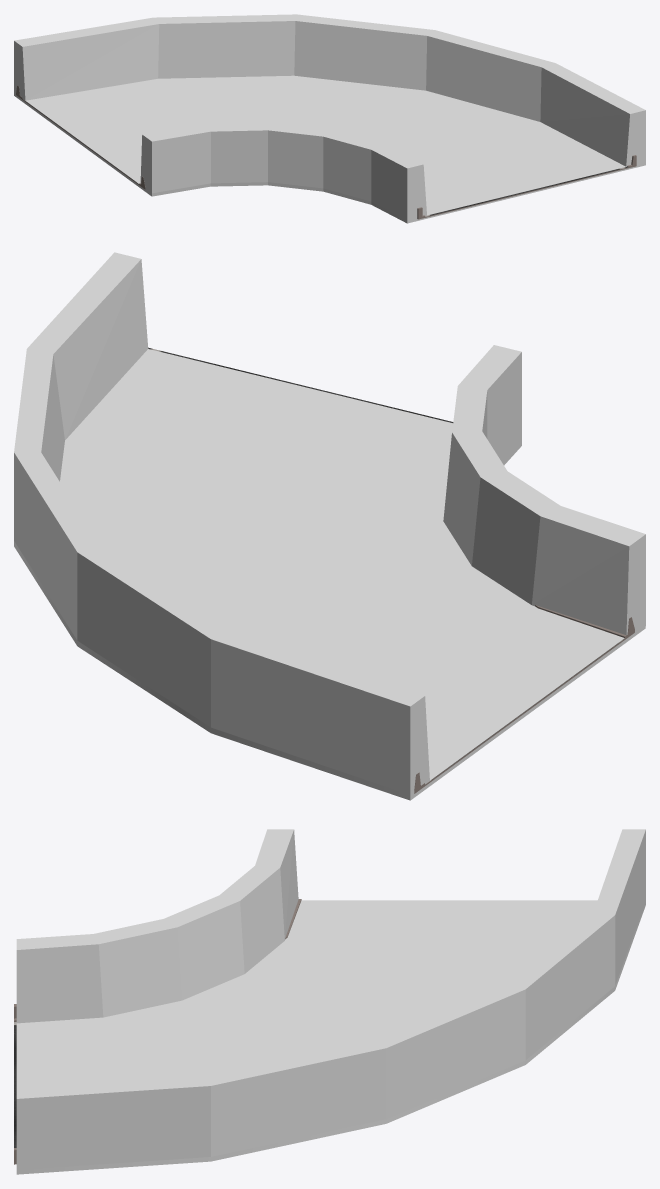
Rendered from CurveRoad.FBX.
3 views of the same model, one above another, from view 1: azimuth 30°, elevation 25°; view 2: azimuth 150°, elevation 25°; view 3: azimuth 270°, elevation 25° (orthographic). The views are drawn at different scales.
Parts seen in each view (by area): view 1: Cylinder002, Cylinder001; view 2: Cylinder002, Cylinder001; view 3: Cylinder002, Cylinder001.
Part boxes in pixels (x1=…): Cylinder002: x1=14, y1=14, x2=645, y2=223; Cylinder001: x1=16, y1=85, x2=636, y2=219; Cylinder002: x1=14, y1=252, x2=645, y2=800; Cylinder001: x1=148, y1=347, x2=634, y2=793; Cylinder002: x1=16, y1=829, x2=645, y2=1174; Cylinder001: x1=14, y1=899, x2=301, y2=1164.
Bounding box in the file's own units: 1313 × 172 × 1300.
